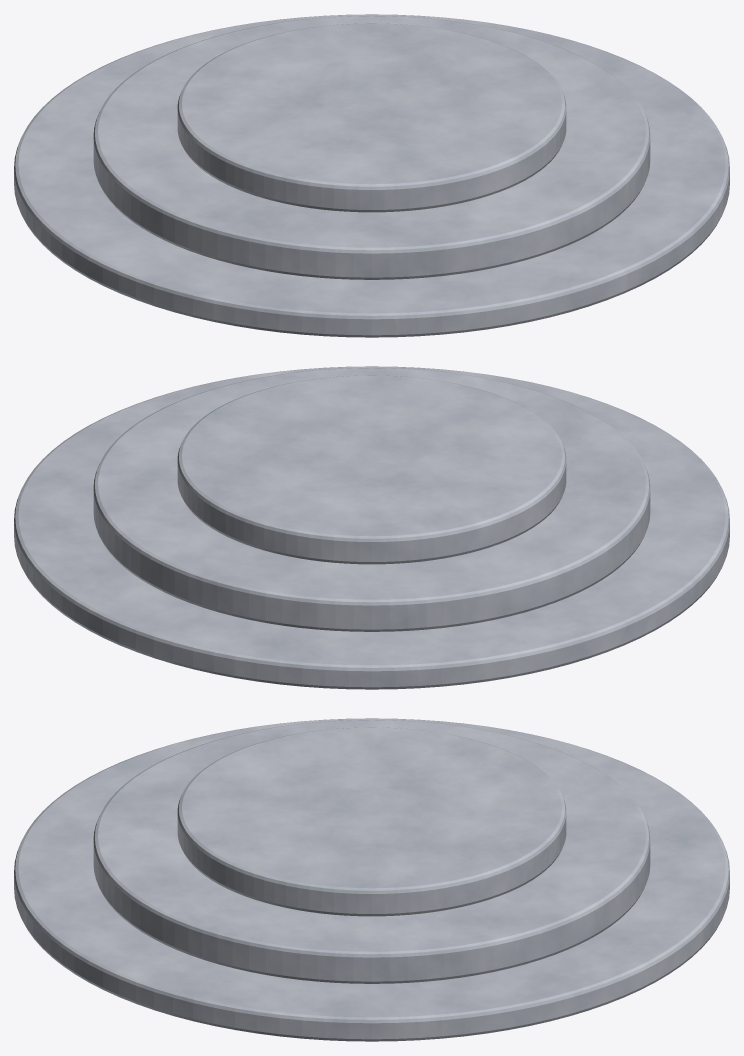
File: pedestal.glb
3 renders of one model, top to bottom at view 1: azimuth 30°, elevation 25°; view 2: azimuth 150°, elevation 25°; view 3: azimuth 270°, elevation 25°, orthographic.
Parts seen in each view (by area): view 1: pedestal; view 2: pedestal; view 3: pedestal.
Boxes of the visible parts, x1,y1,x2,y2 form: pedestal: (14, 14, 729, 337); pedestal: (14, 366, 729, 689); pedestal: (14, 718, 729, 1041).
Size of the model in its own units: 3.24 by 0.4141 by 3.24.
Materials: 1 (1 with a texture image).
